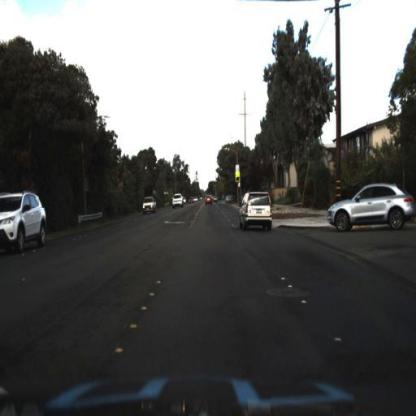car: (328, 181, 416, 234), (1, 191, 51, 255), (240, 189, 276, 236), (143, 195, 159, 217), (143, 197, 159, 217), (172, 192, 185, 211), (171, 192, 184, 210), (204, 192, 216, 206)
